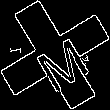M_NW: (22, 21, 88, 89)
